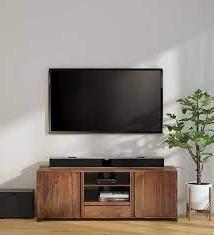TV: (47, 66, 169, 134)
console: (34, 163, 179, 223)
